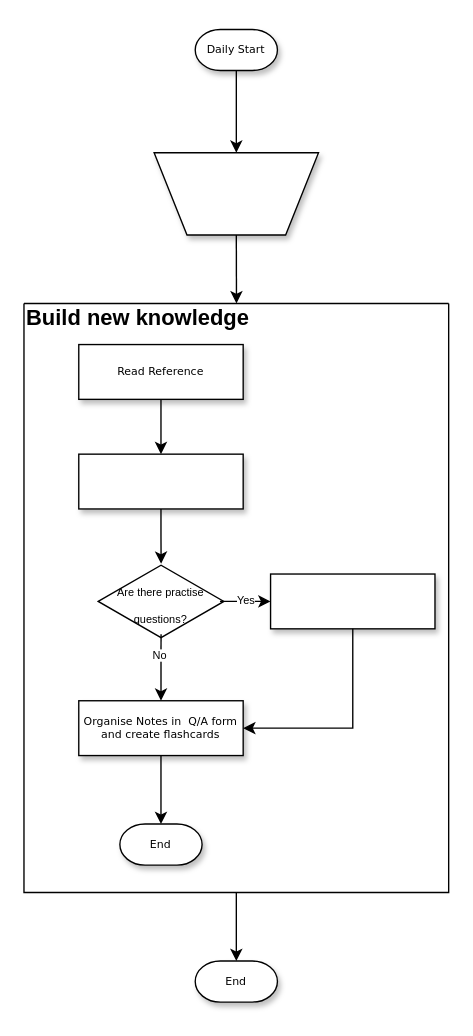
Image size: 473x1036. Some labels were removed from this diagram. Each missing label, with the centre of its shape:
Do sample questions and record date, pg, q# right/wrong, your answer: (353,602)
Make Notes: (161,483)
Revise Flashcards: (237,195)
